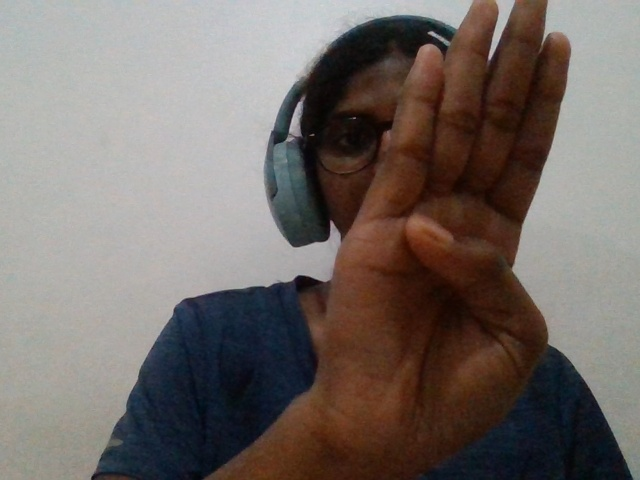B: (284, 4, 606, 480)
